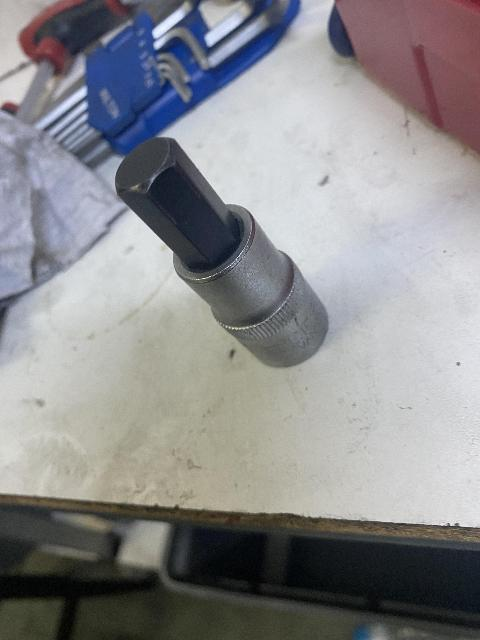Metal: (92, 133, 344, 370)
